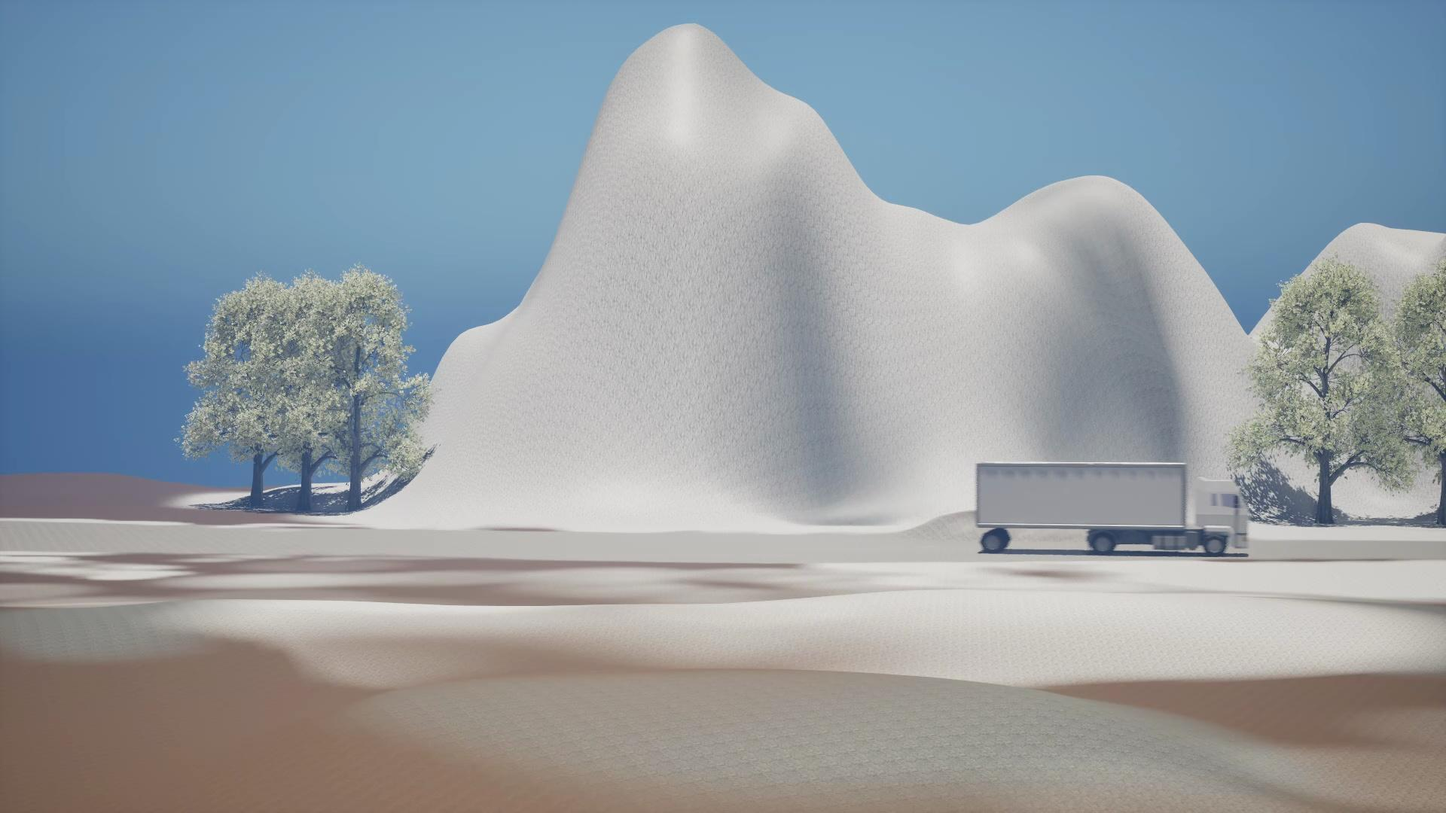truck: (975, 462, 1251, 557)
